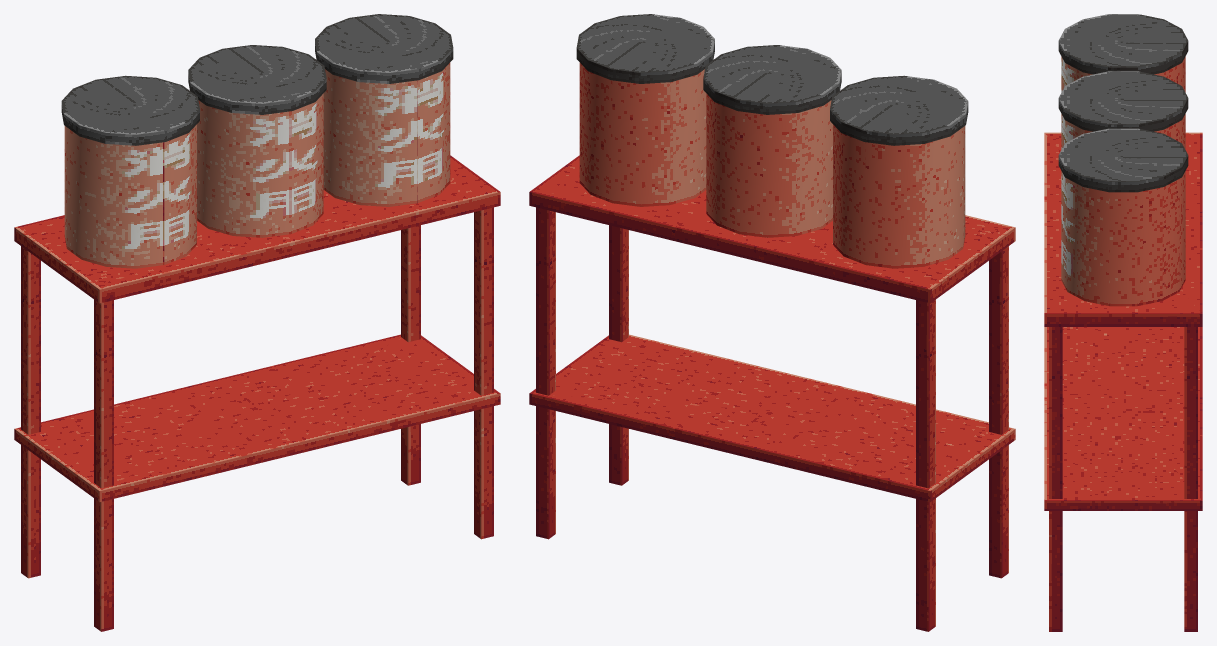
Rendered from firebuckets.glb.
3 views of the same model, side by side, from view 1: azimuth 30°, elevation 25°; view 2: azimuth 150°, elevation 25°; view 3: azimuth 270°, elevation 25° (orthographic). The views are drawn at different scales.
Parts seen in each view (by area): view 1: mesh; view 2: mesh; view 3: mesh.
Boxes of the visible parts, x1=… form: mesh: x1=14, y1=14, x2=500, y2=631; mesh: x1=529, y1=14, x2=1015, y2=631; mesh: x1=1044, y1=14, x2=1202, y2=631.
Size of the model in its own units: 0.76 by 0.87 by 0.28.
1 material, 1 textured.
